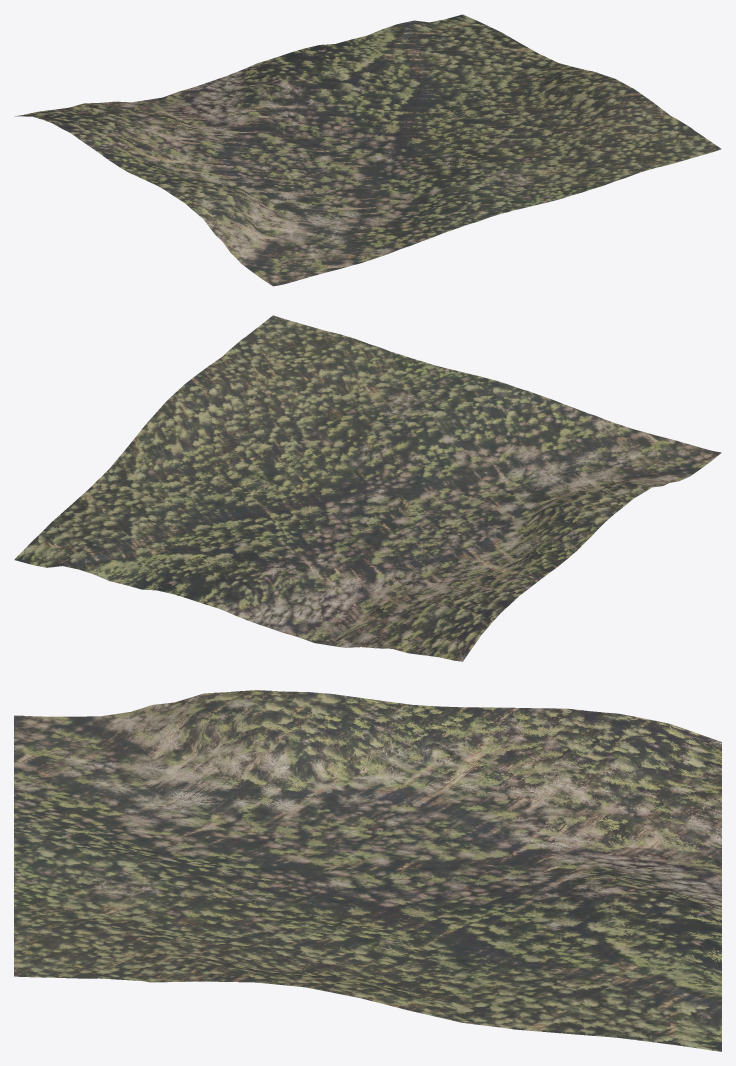
Rendered from CM_Terrain_24490663_6822865.fbx.
The picture shows the model from 3 angles, top to bottom: view 1: azimuth 30°, elevation 25°; view 2: azimuth 150°, elevation 25°; view 3: azimuth 270°, elevation 25°; orthographic projection. The views are drawn at different scales.
Visible parts, largest first — view 1: CM_Terrain_24490663_6822865_LOD0; view 2: CM_Terrain_24490663_6822865_LOD0; view 3: CM_Terrain_24490663_6822865_LOD0.
Boxes of the visible parts, box(x1,y1,x2,y2) form: CM_Terrain_24490663_6822865_LOD0: box(14, 14, 721, 286); CM_Terrain_24490663_6822865_LOD0: box(14, 315, 721, 661); CM_Terrain_24490663_6822865_LOD0: box(14, 690, 721, 1051).
Size of what is drawn, in the model's own units: 205 by 28.27 by 205.
